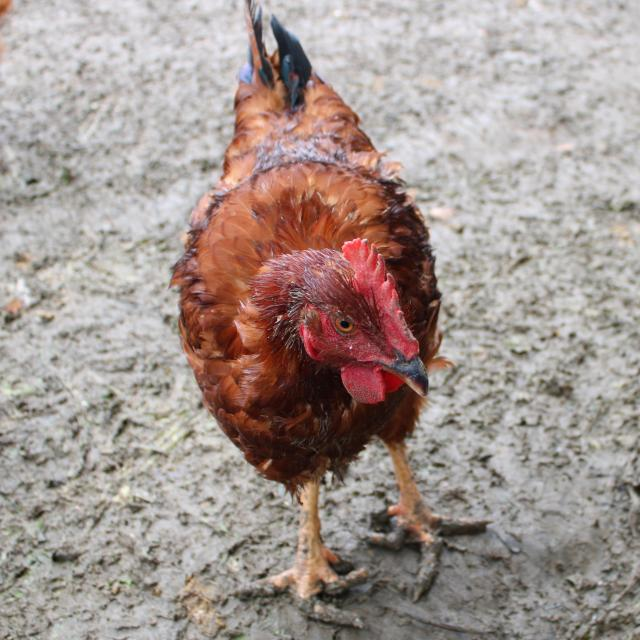cook: (120, 0, 498, 634)
